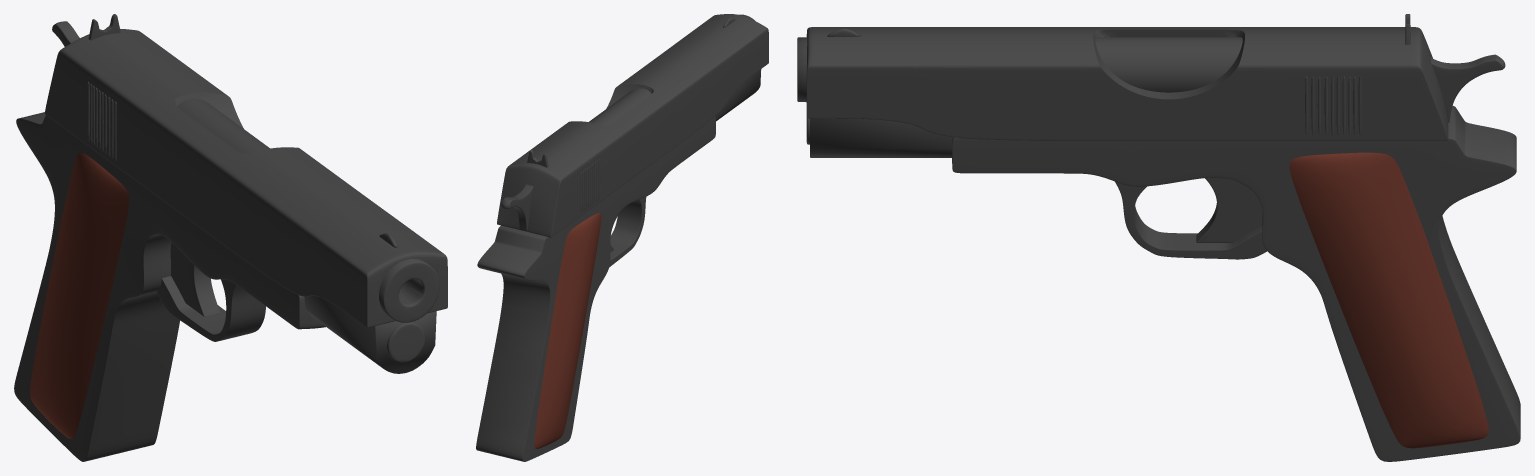
Rendered from LD Jam gun file.fbx.
3 renders of one model, left to right at view 1: azimuth 30°, elevation 25°; view 2: azimuth 150°, elevation 25°; view 3: azimuth 270°, elevation 25°, orthographic. The views are drawn at different scales.
Parts seen in each view (by area): view 1: Plane.001, Plane, Plane.008, Cylinder.001, Cylinder, Plane.002, Plane.003, Cylinder.002; view 2: Plane.001, Plane, Plane.008, Plane.002, Cylinder.001, Plane.004, Cylinder; view 3: Plane.001, Plane, Plane.007, Cylinder.001, Cylinder, Plane.002, Plane.003, Plane.004.
Part boxes in pixels (x1=…): Plane.001: x1=45, y1=29, x2=447, y2=327; Plane: x1=14, y1=112, x2=325, y2=461; Plane.008: x1=30, y1=152, x2=129, y2=438; Cylinder.001: x1=177, y1=98, x2=439, y2=322; Cylinder: x1=304, y1=296, x2=436, y2=373; Plane.002: x1=156, y1=276, x2=265, y2=341; Plane.003: x1=170, y1=242, x2=220, y2=316; Cylinder.002: x1=387, y1=322, x2=425, y2=362; Plane.001: x1=497, y1=14, x2=768, y2=237; Plane: x1=476, y1=116, x2=715, y2=461; Plane.008: x1=534, y1=213, x2=601, y2=448; Plane.002: x1=609, y1=197, x2=646, y2=267; Cylinder.001: x1=589, y1=14, x2=754, y2=125; Plane.004: x1=501, y1=184, x2=533, y2=231; Cylinder: x1=715, y1=69, x2=761, y2=121; Plane.001: x1=806, y1=27, x2=1448, y2=140; Plane: x1=952, y1=106, x2=1520, y2=461; Plane.007: x1=1289, y1=152, x2=1488, y2=448; Cylinder.001: x1=797, y1=37, x2=1242, y2=102; Cylinder: x1=810, y1=118, x2=952, y2=157; Plane.002: x1=1115, y1=181, x2=1266, y2=259; Plane.003: x1=1196, y1=177, x2=1262, y2=242; Plane.004: x1=1431, y1=54, x2=1505, y2=122.
Bounding box in the file's own units: 4.66 × 19.86 × 30.59.
